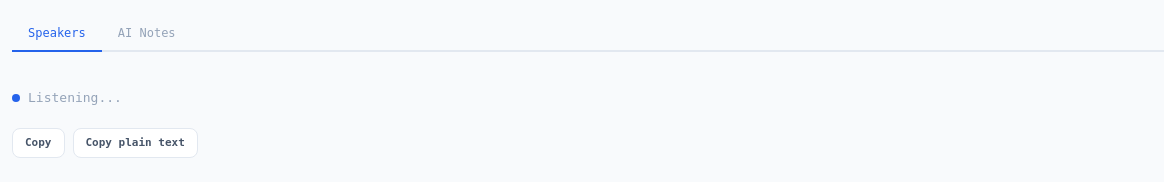
Test: a notes conflict keeps the completed result draft without changing accepted notes
Click the button "AI Notes": (147, 34) [102,16,192,52]
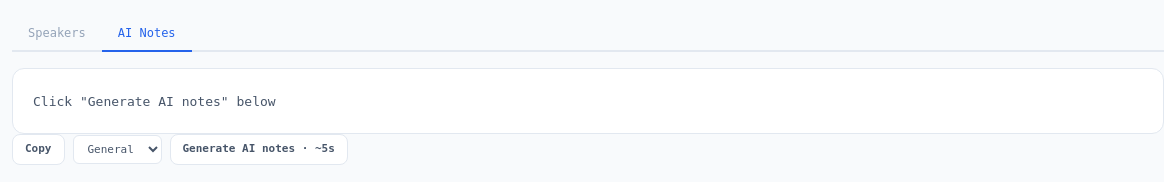
Click the button "Generate AI notes · ~5s": (259, 149) [170,134,348,165]
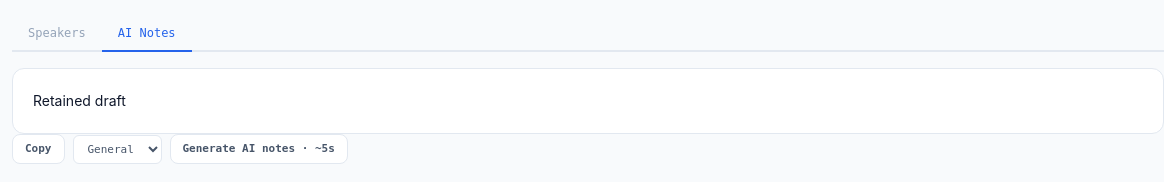
Now the text "Retained draft" is shown, box [12,68,1163,134]
